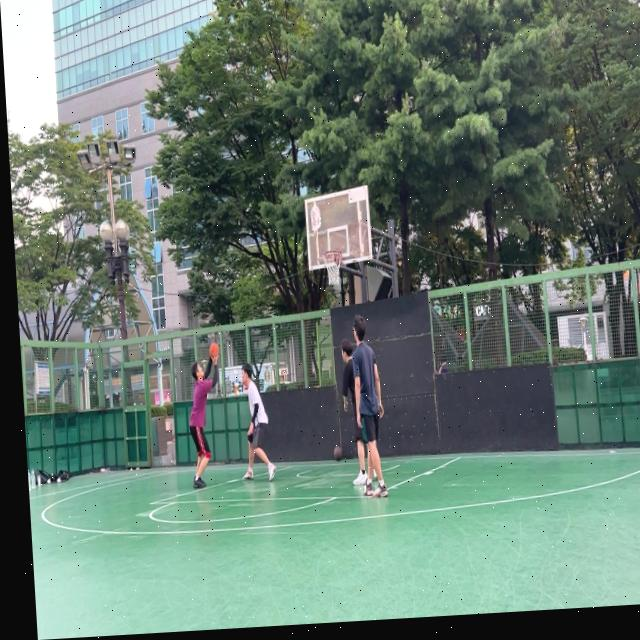basketball: (209, 342, 221, 361), (333, 444, 343, 462)
hoop: (322, 249, 344, 286)
